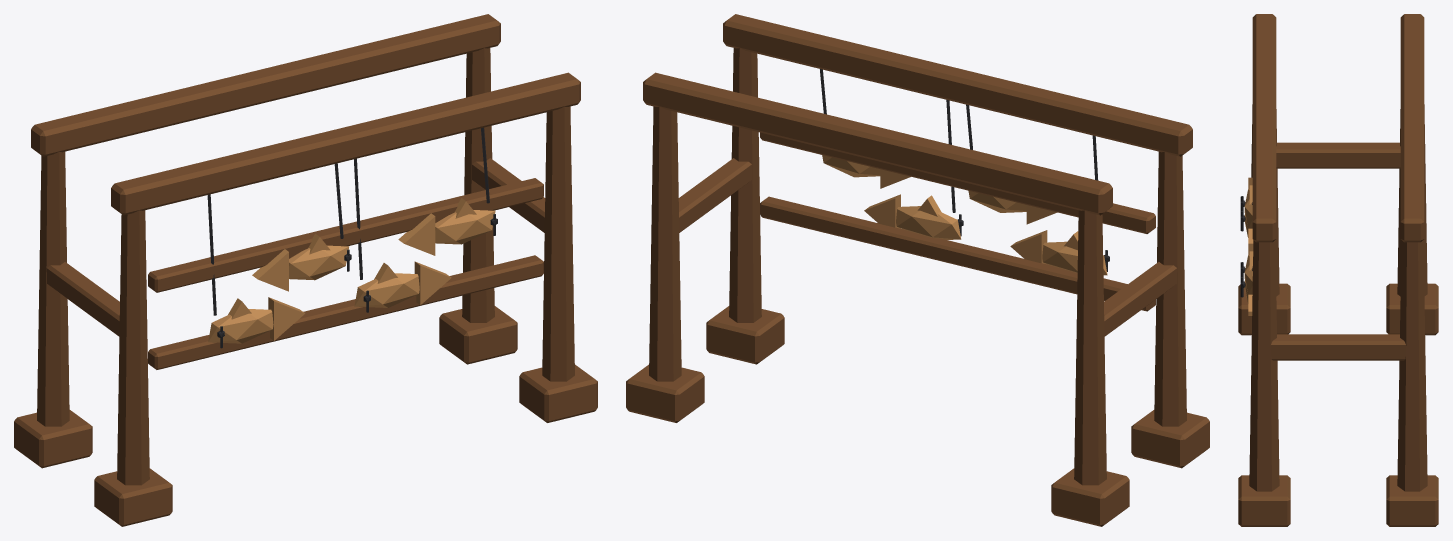
The model's file is prop_fish_drying_rack_a.glb.
The picture shows the model from 3 angles, left to right: view 1: azimuth 30°, elevation 25°; view 2: azimuth 150°, elevation 25°; view 3: azimuth 270°, elevation 25°; orthographic projection. The views are drawn at different scales.
Visible parts, largest first — view 1: prop_fish_drying_rack_a_rack_material_00, prop_fish_drying_rack_a_rack_material_01, prop_fish_drying_rack_a_rack_material_02; view 2: prop_fish_drying_rack_a_rack_material_00, prop_fish_drying_rack_a_rack_material_01, prop_fish_drying_rack_a_rack_material_02; view 3: prop_fish_drying_rack_a_rack_material_00, prop_fish_drying_rack_a_rack_material_01, prop_fish_drying_rack_a_rack_material_02.
Part boxes in pixels (left/top/right/bottom): prop_fish_drying_rack_a_rack_material_00: left=14, top=14, right=597, bottom=526; prop_fish_drying_rack_a_rack_material_01: left=208, top=198, right=495, bottom=343; prop_fish_drying_rack_a_rack_material_02: left=207, top=127, right=497, bottom=348; prop_fish_drying_rack_a_rack_material_00: left=626, top=14, right=1209, bottom=526; prop_fish_drying_rack_a_rack_material_01: left=822, top=155, right=1107, bottom=275; prop_fish_drying_rack_a_rack_material_02: left=820, top=69, right=1109, bottom=271; prop_fish_drying_rack_a_rack_material_00: left=1238, top=14, right=1438, bottom=526; prop_fish_drying_rack_a_rack_material_01: left=1244, top=177, right=1253, bottom=315; prop_fish_drying_rack_a_rack_material_02: left=1240, top=196, right=1252, bottom=297.
Size of the model in its own units: 2.14 by 1.41 by 0.8399.
